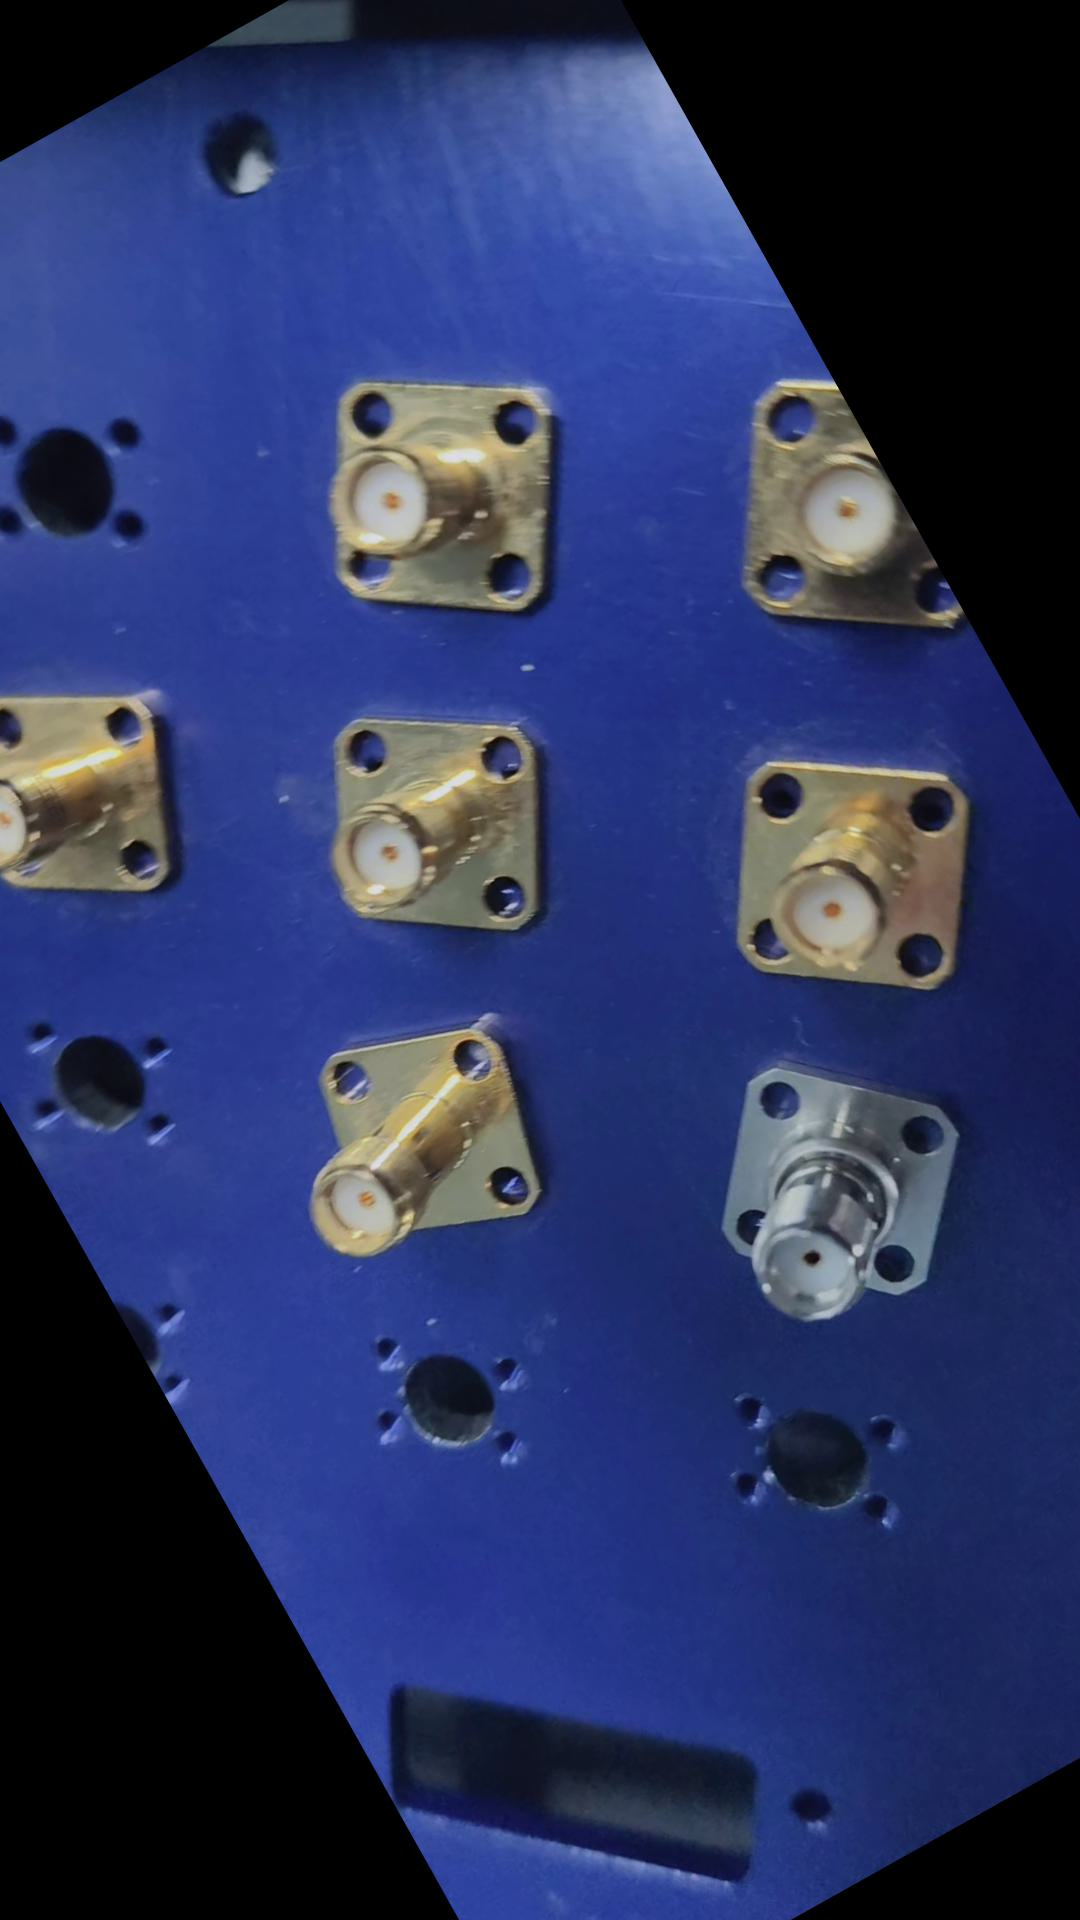SMA: (650, 675, 1036, 1069), (644, 990, 1018, 1375), (258, 309, 622, 684), (258, 650, 601, 1007), (237, 980, 583, 1317), (0, 630, 239, 975)
